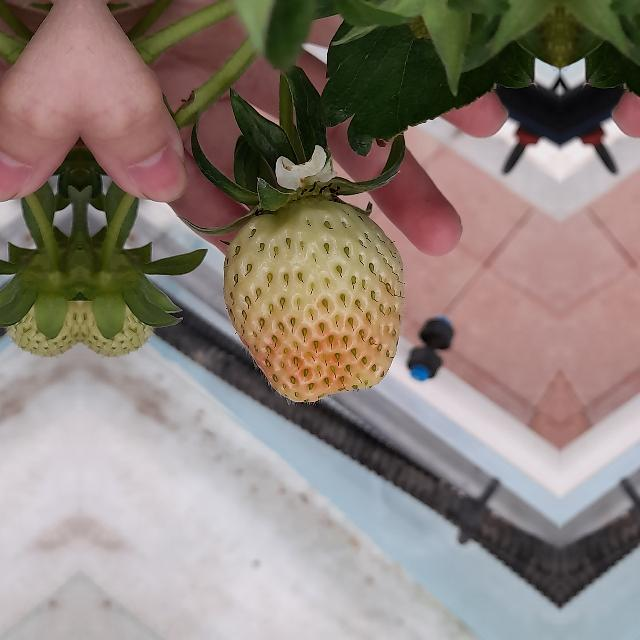Health_50: (223, 198, 404, 402)
